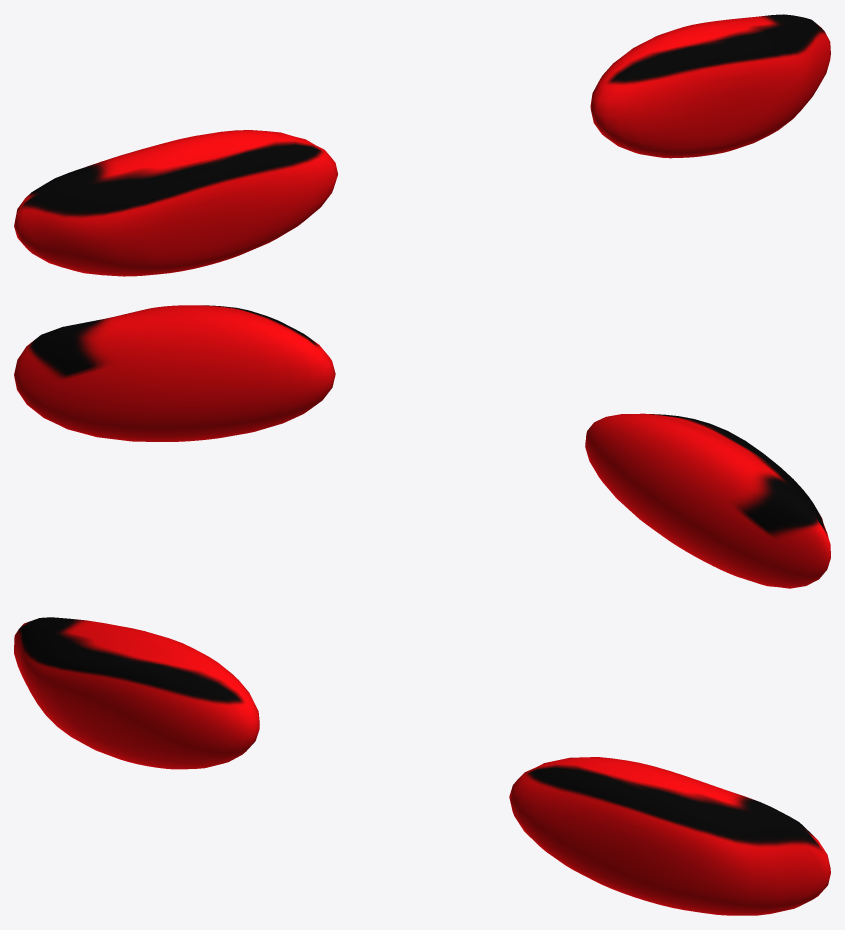
The model's file is Zombie-Red.glb.
3 renders of one model, top to bottom at view 1: azimuth 30°, elevation 25°; view 2: azimuth 150°, elevation 25°; view 3: azimuth 330°, elevation 25°, orthographic.
Visible parts, largest first — view 1: Sphere.002; view 2: Sphere.002; view 3: Sphere.002.
Boxes of the visible parts, bbox=[...] form: Sphere.002: bbox=[14, 14, 830, 276]; Sphere.002: bbox=[14, 305, 830, 588]; Sphere.002: bbox=[14, 617, 830, 915].
Size of the model in its own units: 0.3777 by 0.0623 by 0.0485.
1 material, 1 textured.
